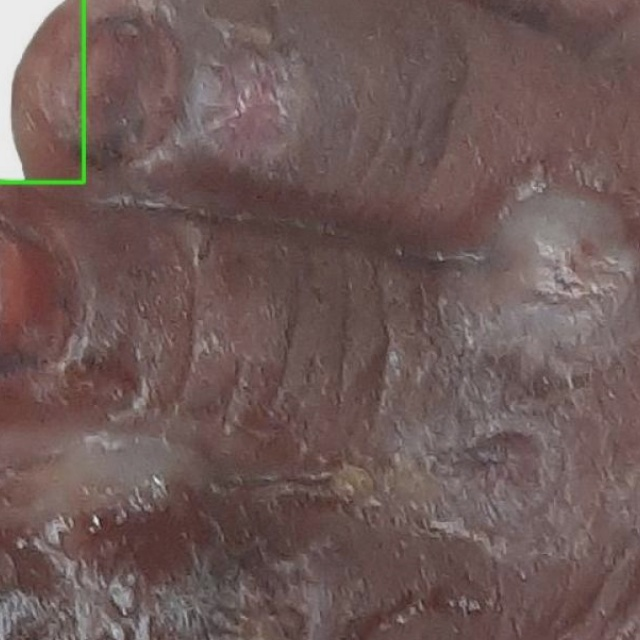Eczema: (0, 0, 83, 182)
